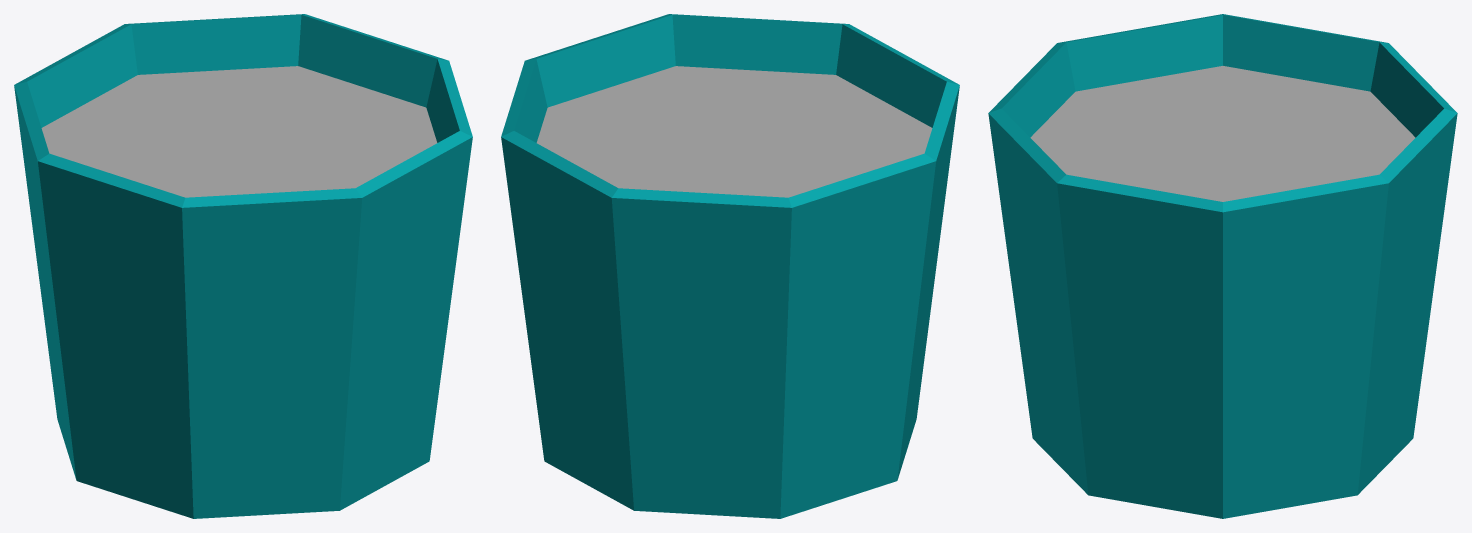
File: Glass2.fbx
3 views of the same model, side by side, from view 1: azimuth 30°, elevation 25°; view 2: azimuth 150°, elevation 25°; view 3: azimuth 270°, elevation 25° (orthographic).
Visible parts, largest first — view 1: Glass2, LiquidFull; view 2: Glass2, LiquidFull; view 3: Glass2, LiquidFull.
Part boxes in pixels (bbox=[...]): Glass2: bbox=[14, 14, 472, 518]; LiquidFull: bbox=[41, 66, 437, 197]; Glass2: bbox=[501, 14, 959, 518]; LiquidFull: bbox=[536, 66, 932, 197]; Glass2: bbox=[988, 14, 1457, 518]; LiquidFull: bbox=[1030, 66, 1415, 201].
Size of the model in its own units: 0.2 by 0.1552 by 0.2.
